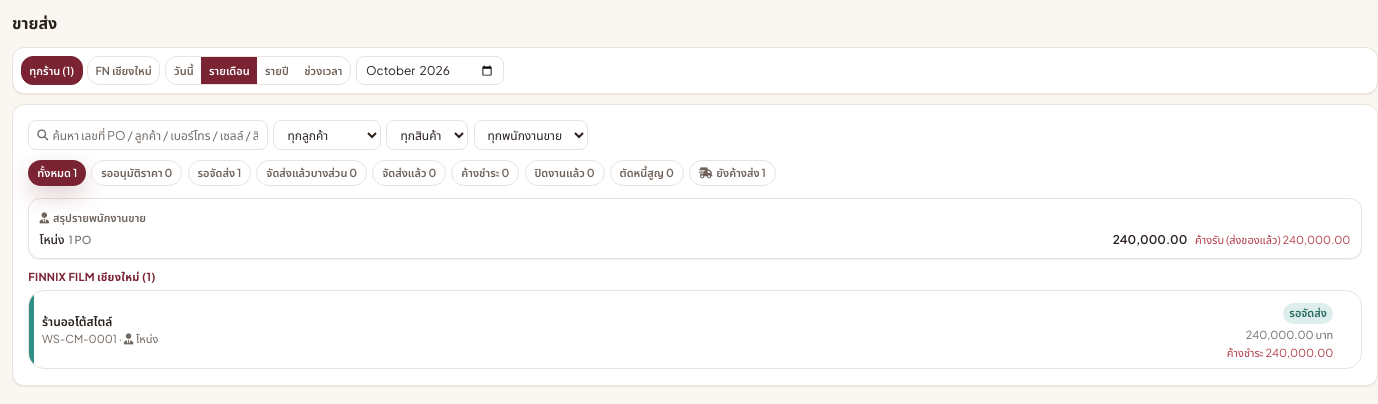
Scenario: WholesaleList — ไม่มีอะไรให้แสดง › ว่างเพราะกรองสถานะไว้ ล้างได้จากตรงนั้นเลย
Click the button "ปิดงานแล้ว 0".
click(564, 173)  # box top-left (524, 160), bottom-right (604, 186)
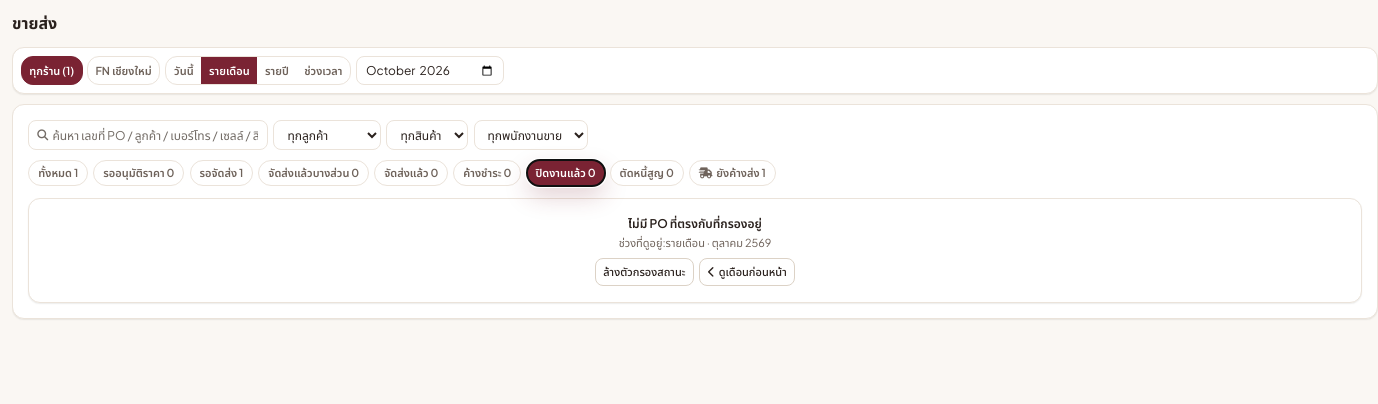
Click the button "ล้างตัวกรองสถานะ".
click(644, 272)  # box top-left (594, 258), bottom-right (694, 286)
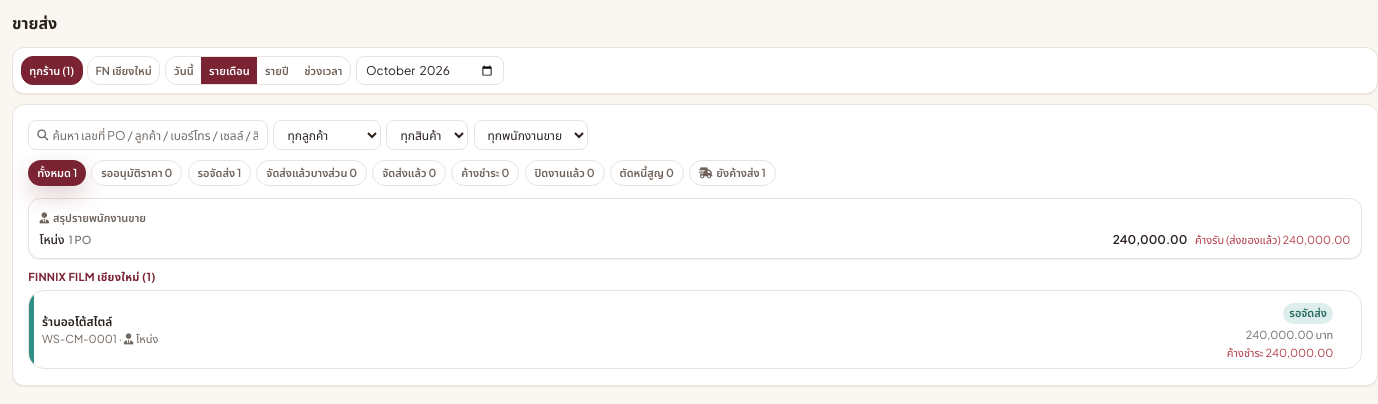
expect the text "WS-CM-0001 · โหน่ง" is shown: met, box top-left (42, 331), bottom-right (158, 347)
